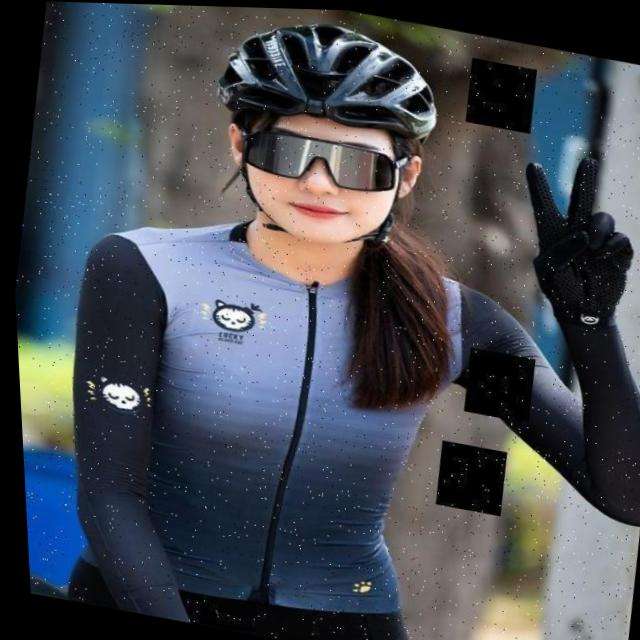helmet: (195, 7, 454, 261)
